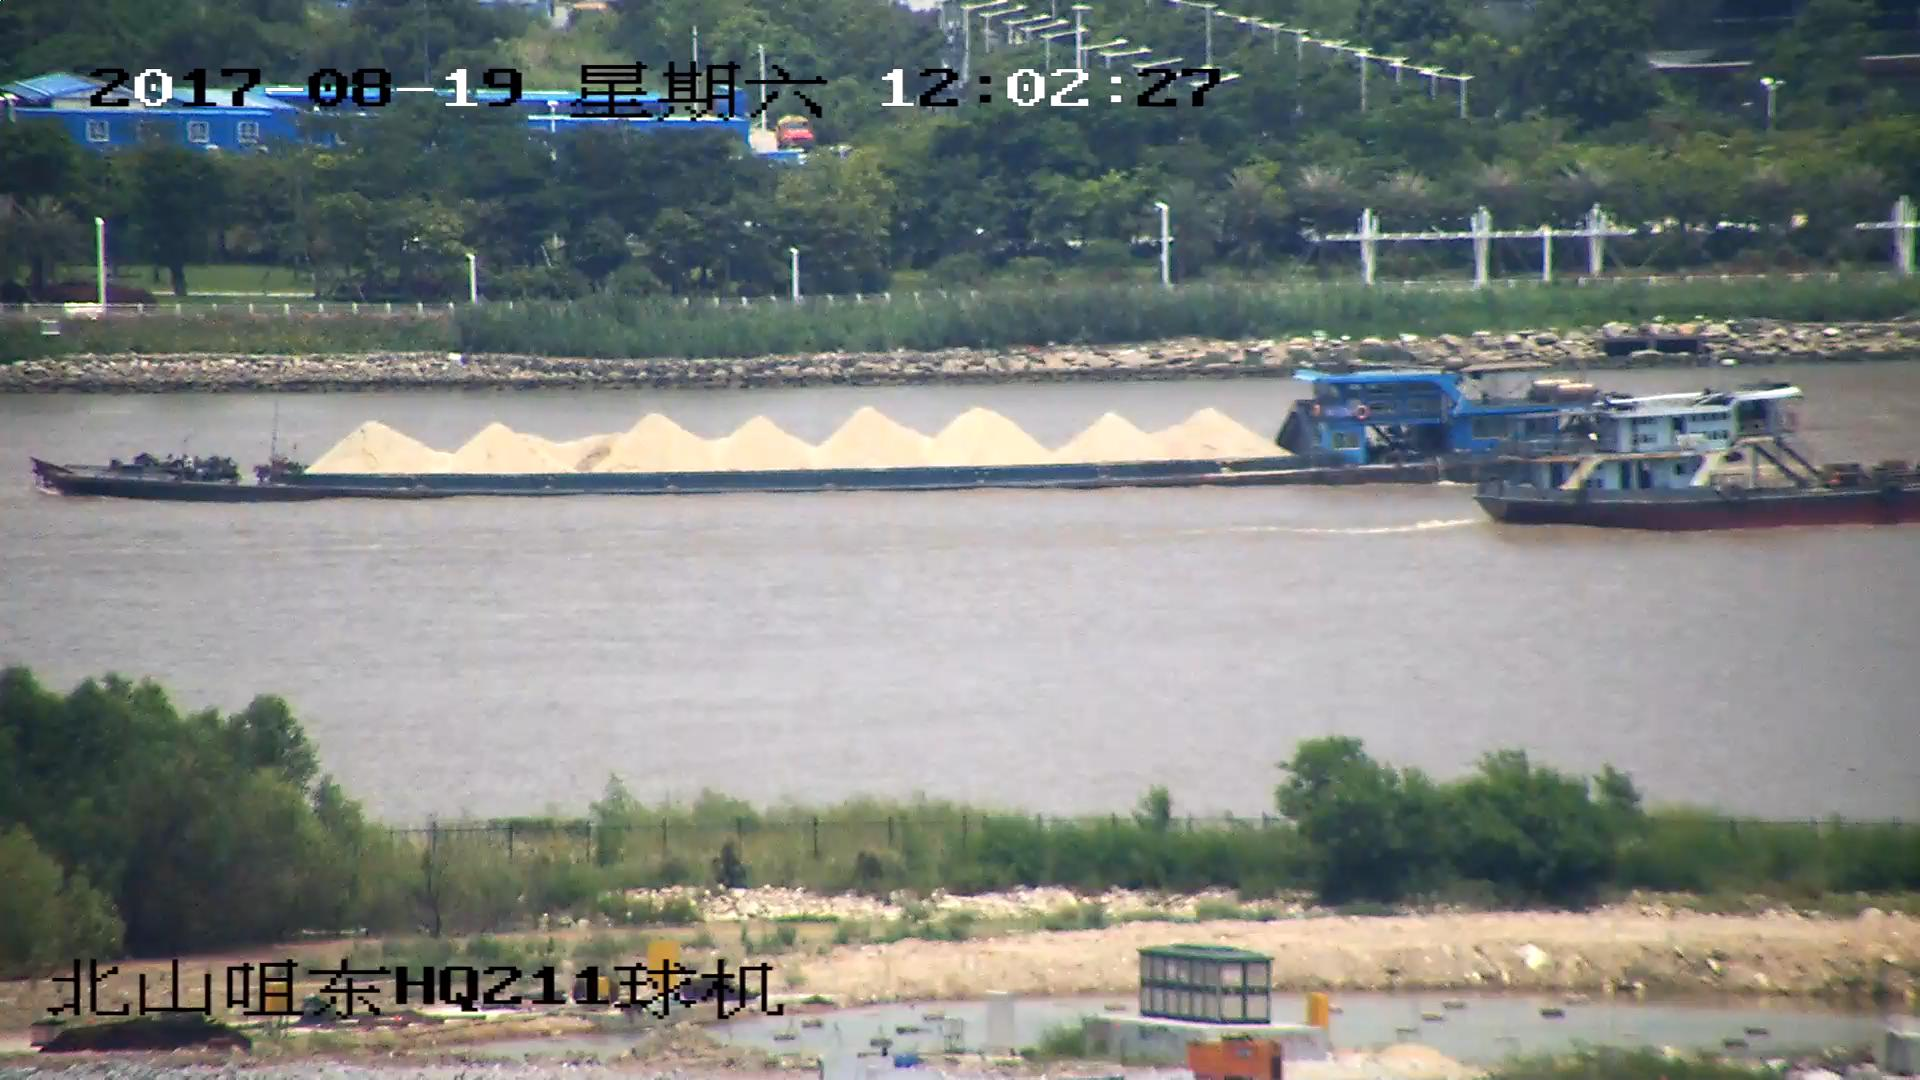bulk cargo carrier: (1466, 372, 1920, 532)
ore carrier: (32, 370, 1500, 503)
